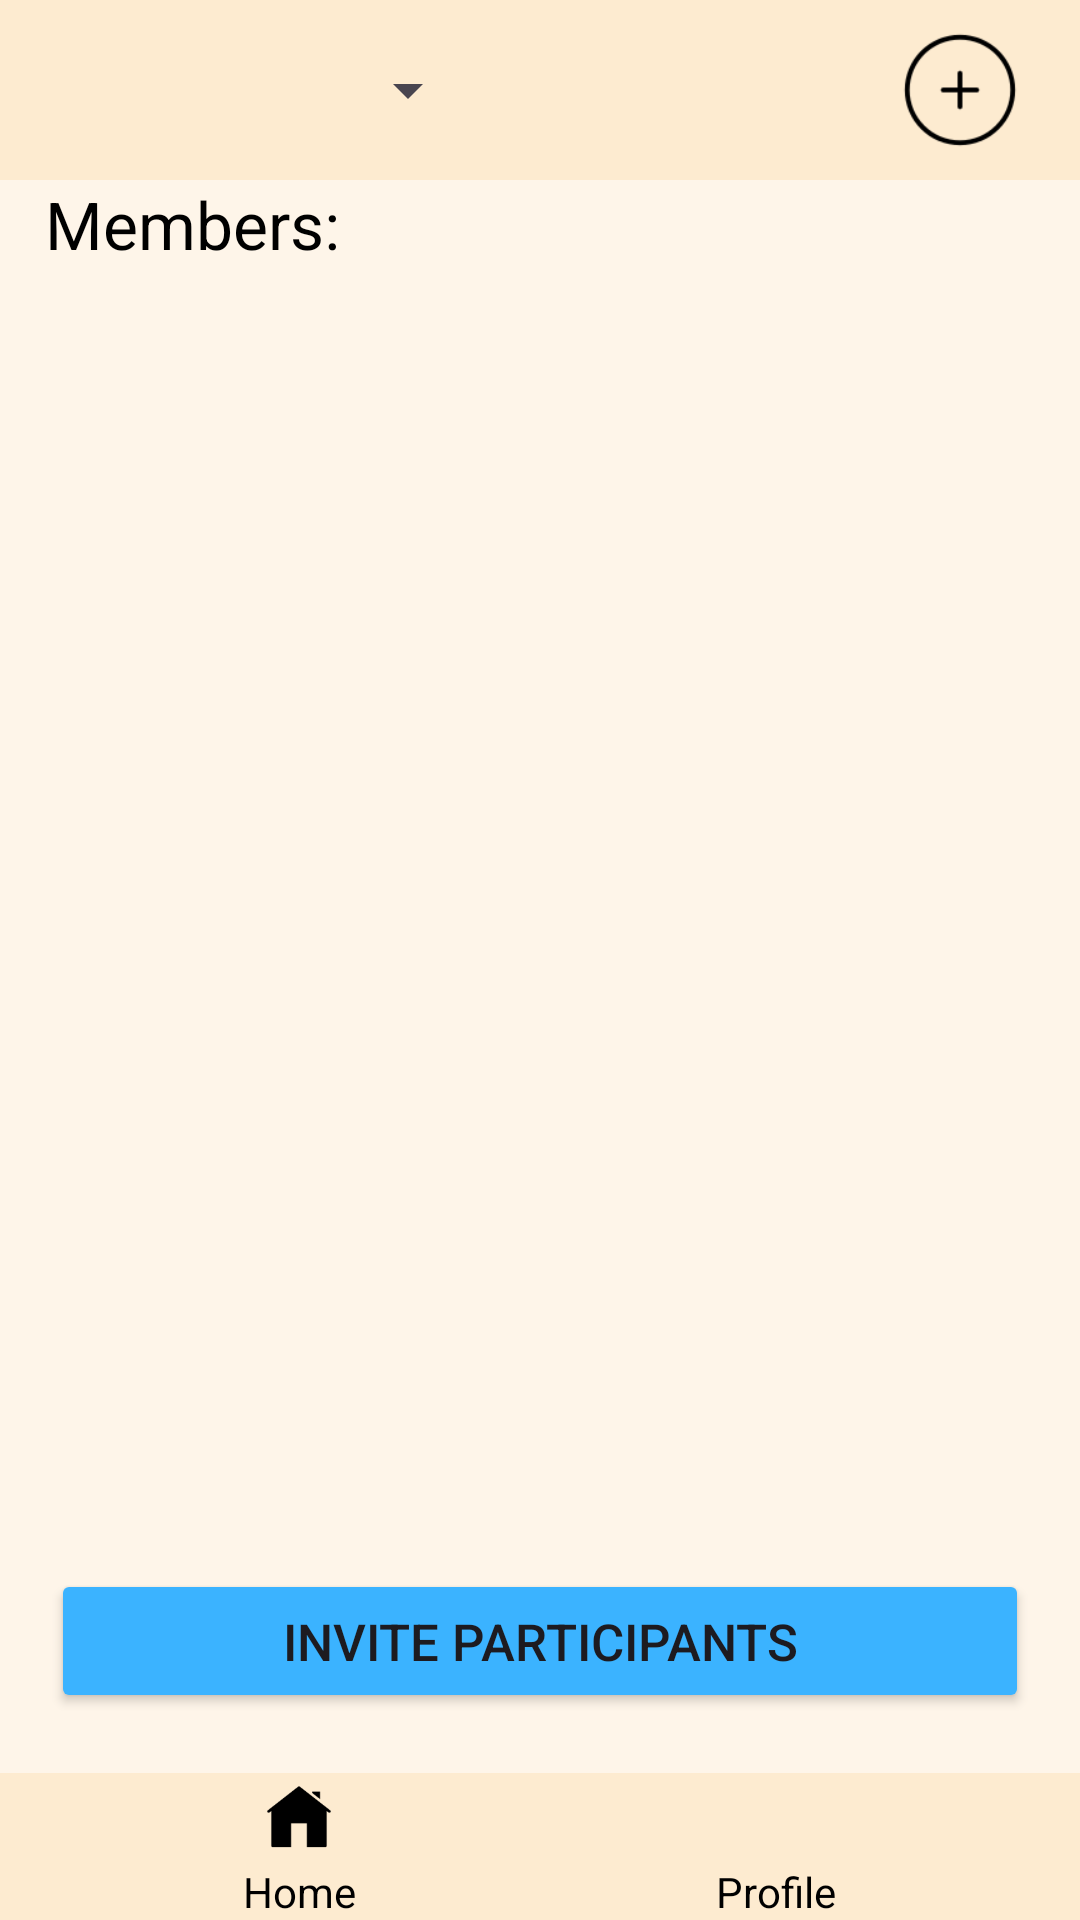

Screen size 1080*1920. Icon name, then its center in pixels as point (x, y):
add: point (960, 90)
